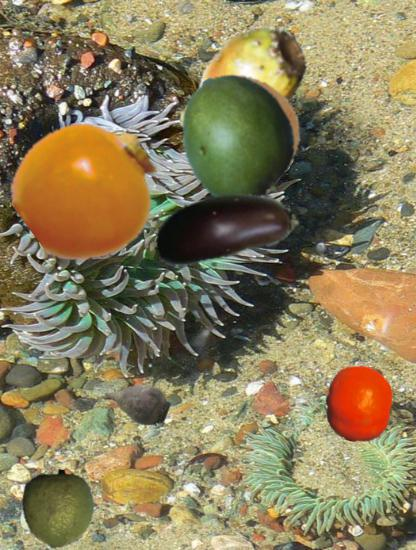Beetroot: (103, 367, 172, 436)
Cactus: (167, 13, 315, 161)
Clementine: (321, 366, 397, 442)
Eggplant: (151, 155, 299, 303)
Kiwi: (182, 74, 301, 193)
Limes: (18, 470, 97, 549)
Mango: (170, 72, 307, 209)
Physalis: (17, 117, 162, 262)
